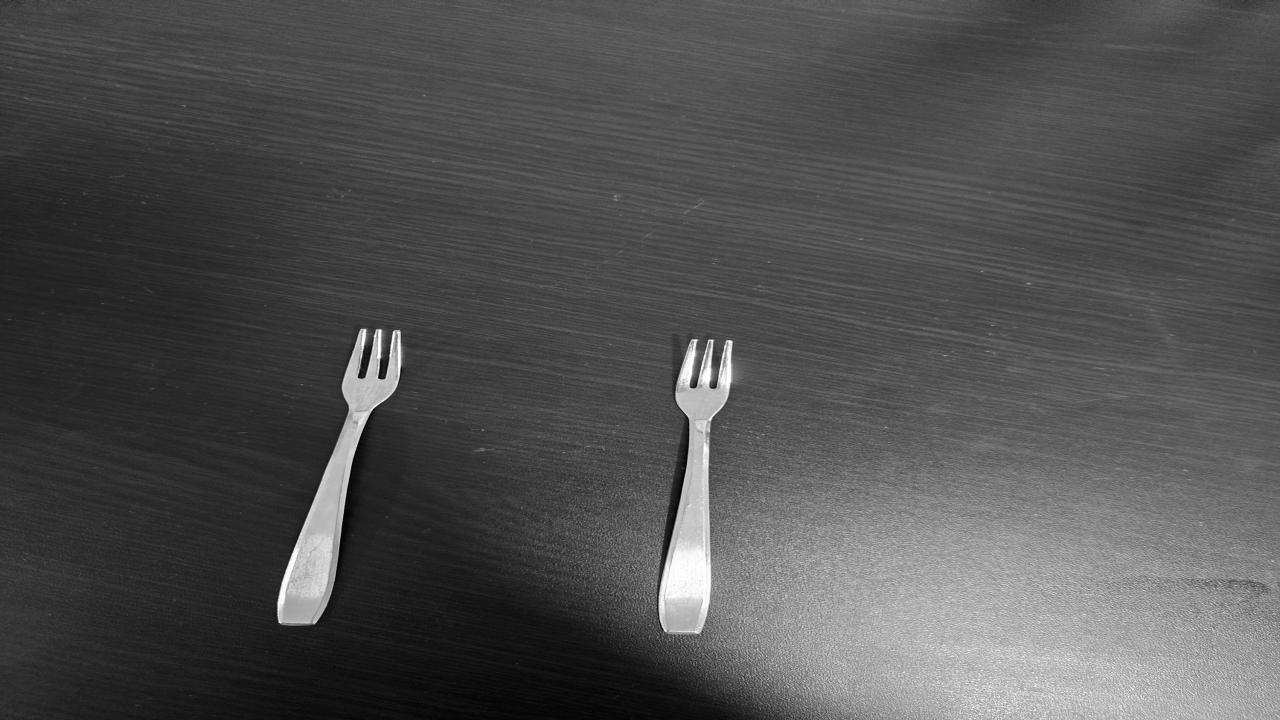fork: (264, 327, 412, 633), (648, 336, 740, 639)
